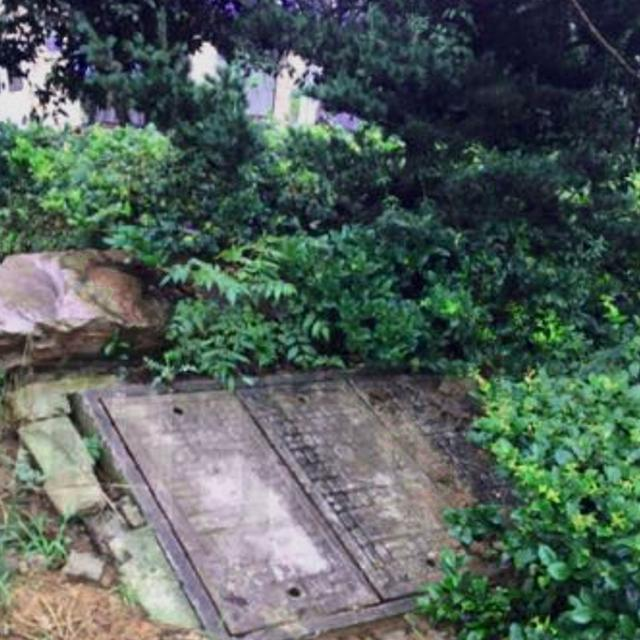good: (75, 357, 505, 640)
